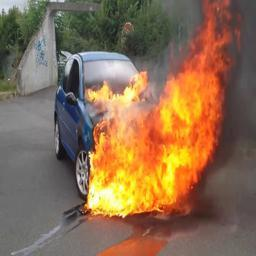fire: (83, 0, 242, 218)
